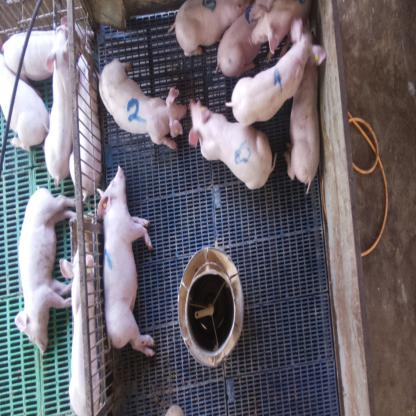1: (272, 67, 282, 94)
2: (126, 98, 146, 125)
N-A: (236, 142, 252, 164)
